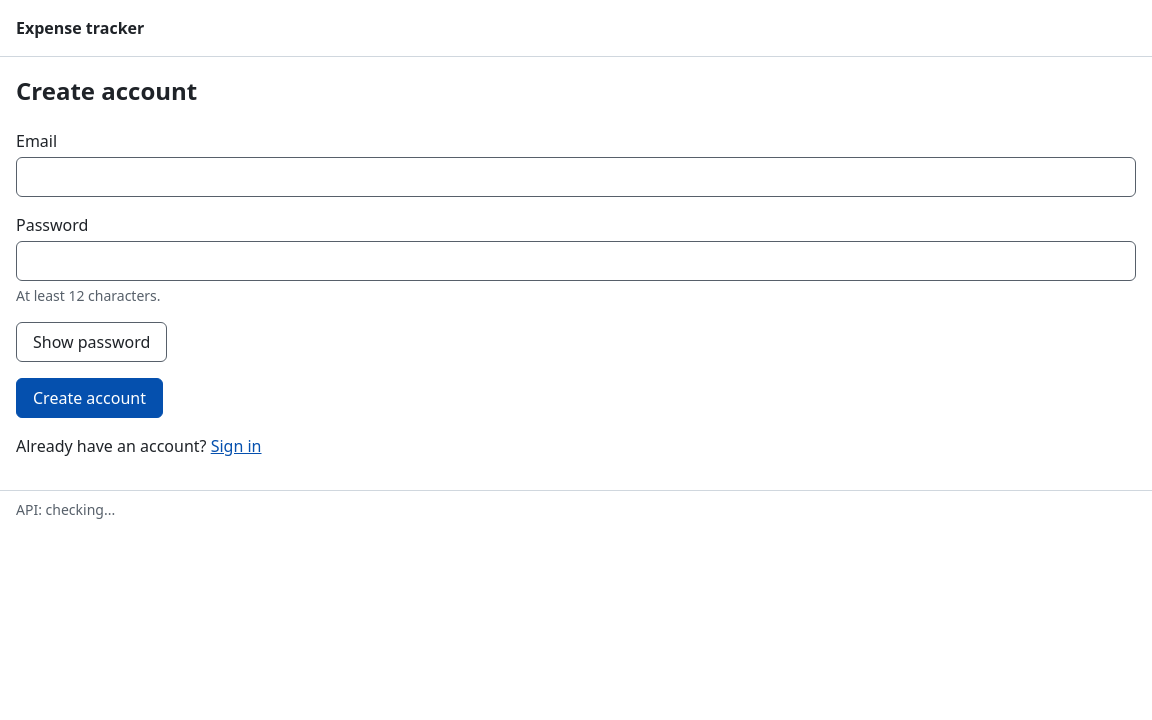
it: sign-in and register over the real client › a 500 shows fixed text, never the server detail
This screenshot has width=1152, height=720.
Type "a@example.com" into the field with id "register-email" at x=576, y=177, box [16,157,1136,197]
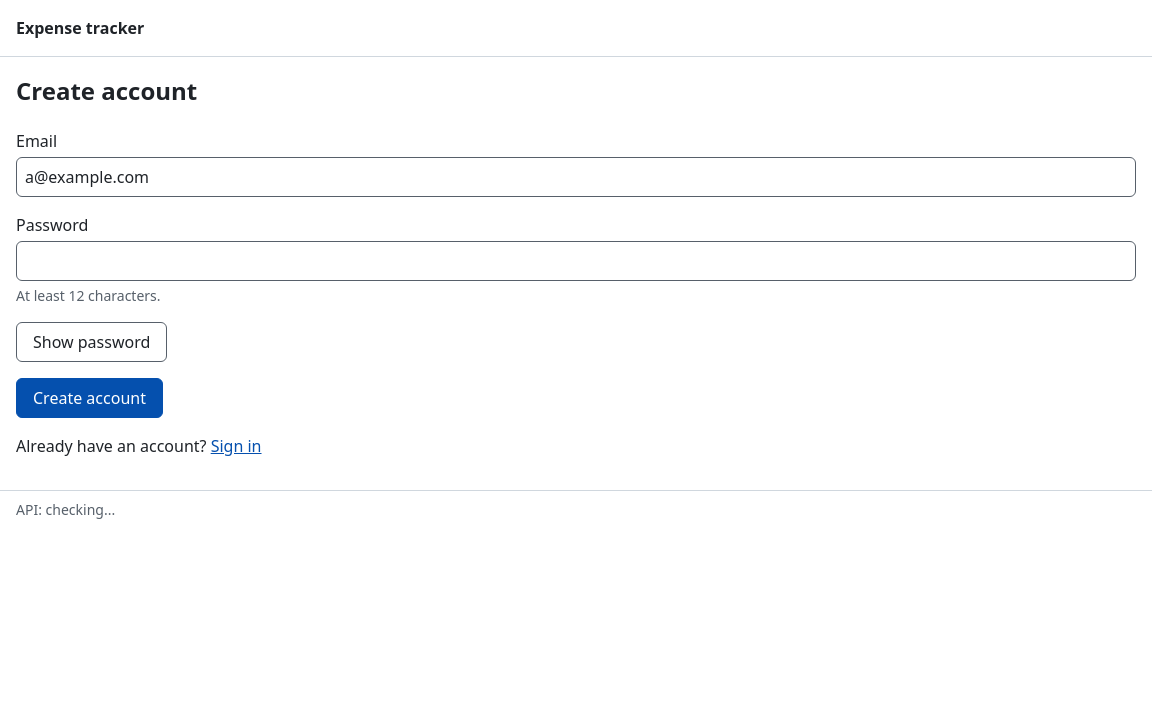
Type "a long enough password" into the password field with id "register-password" at x=576, y=261, box [16,241,1136,281]
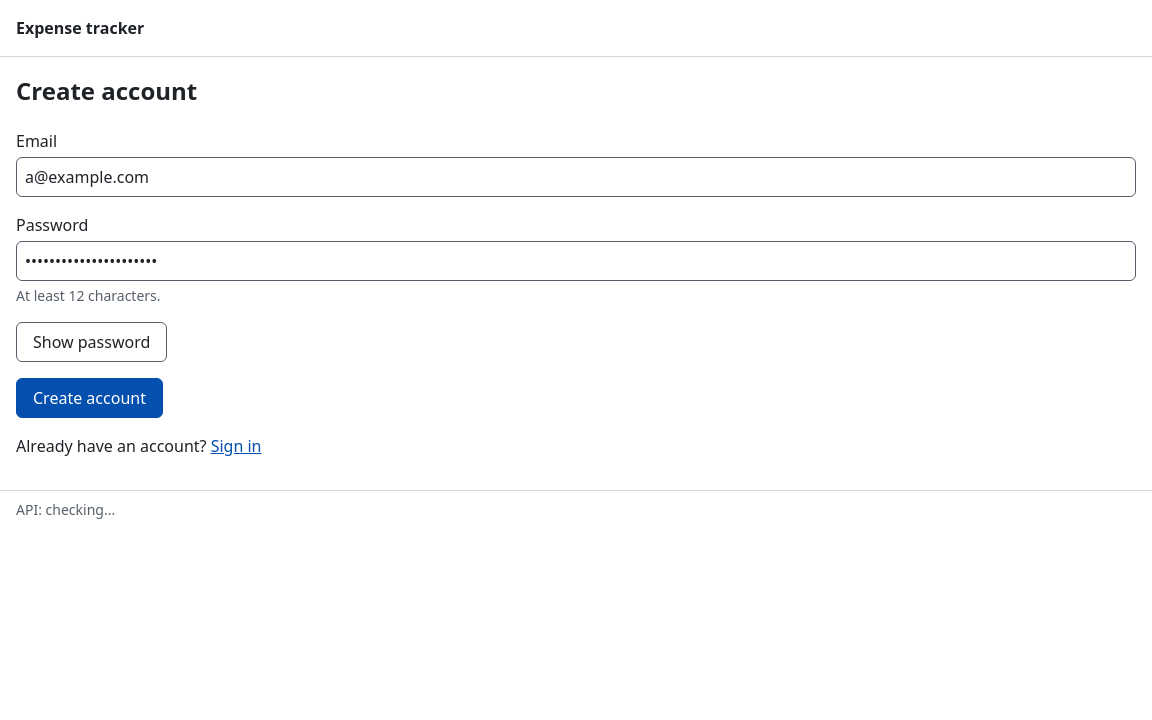
Submit the form, box [16,129,1136,418]
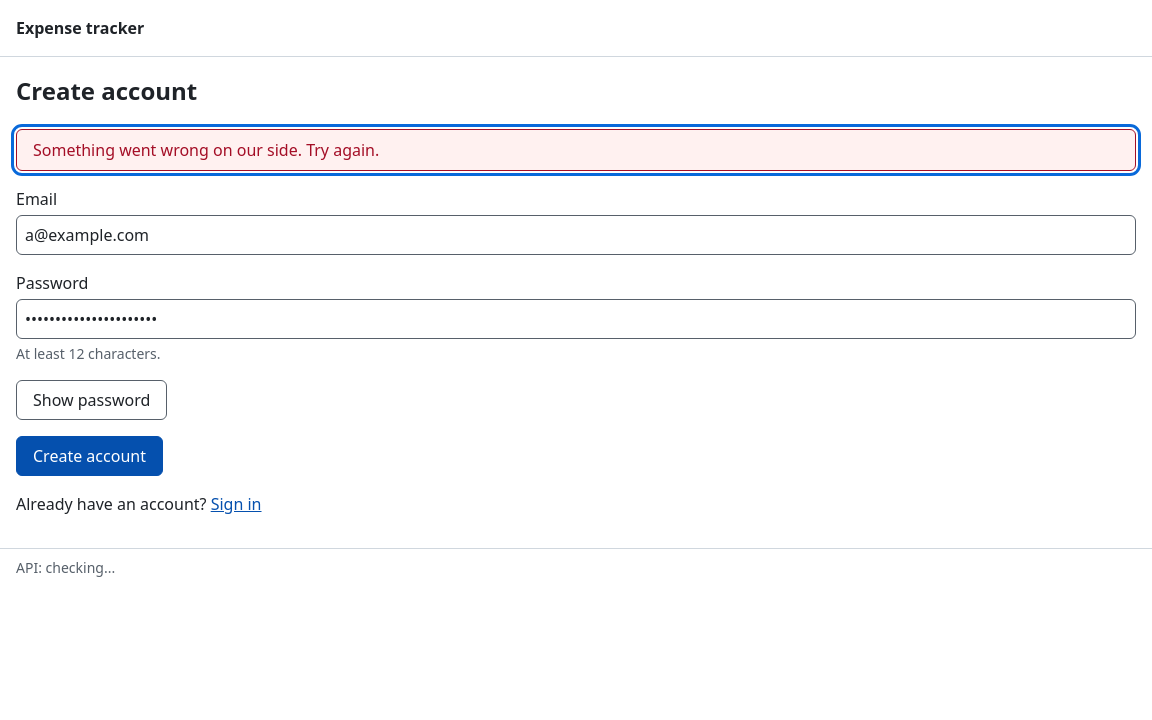
Expected: the message "Something went wrong on our side. Try again." is shown, [16,129,1136,171]
